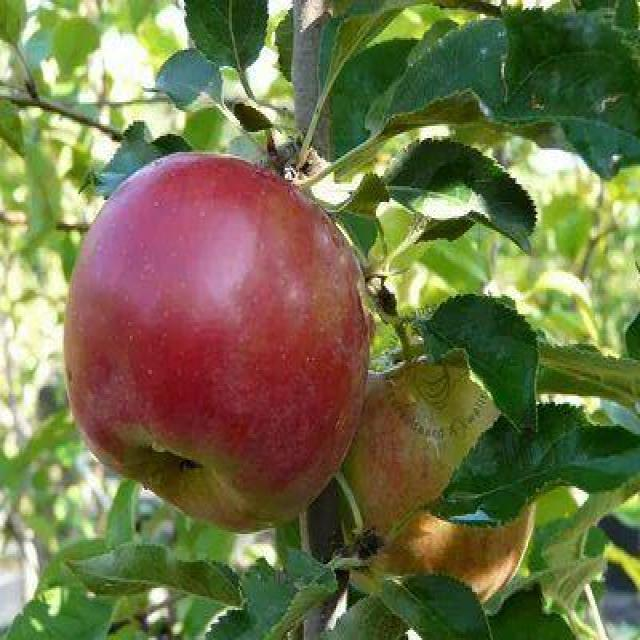Rotten Apple: (67, 156, 368, 528), (345, 366, 537, 604)
